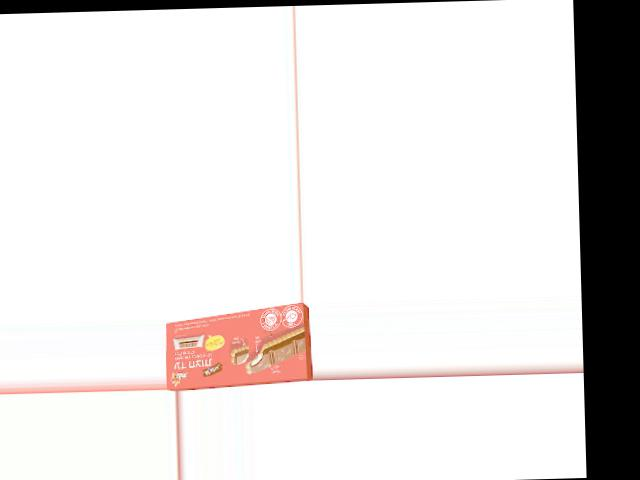chocolate: (163, 311, 311, 385)
